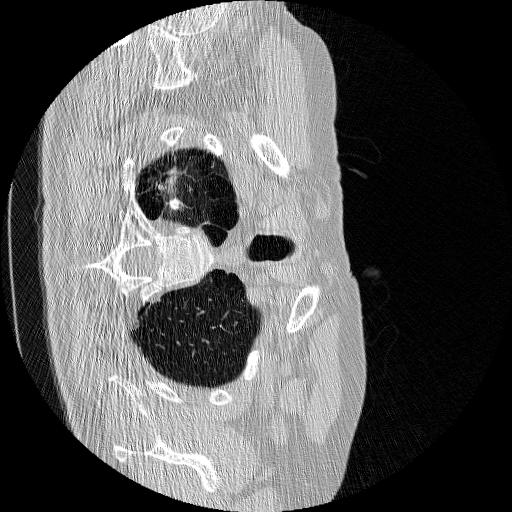nodule: (168, 196, 182, 210)
